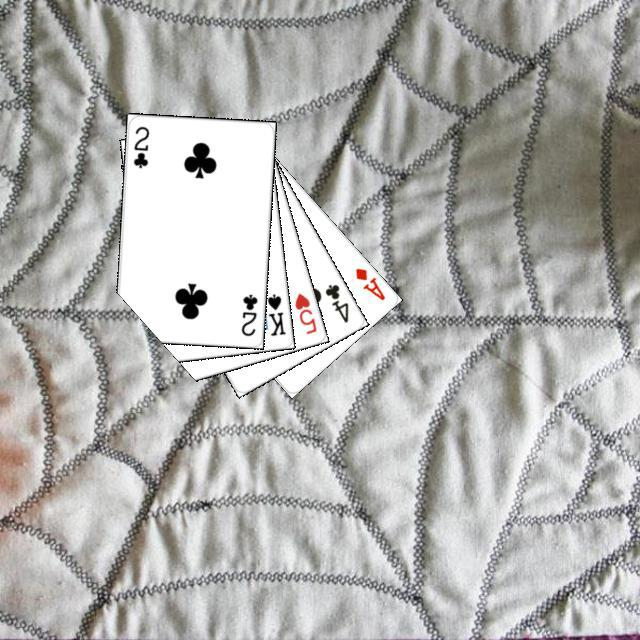2c: (128, 121, 151, 170), (236, 289, 259, 337)
4c: (320, 279, 350, 325)
5h: (290, 288, 318, 336)
Ad: (350, 263, 387, 302)
Ks: (262, 289, 287, 338)
